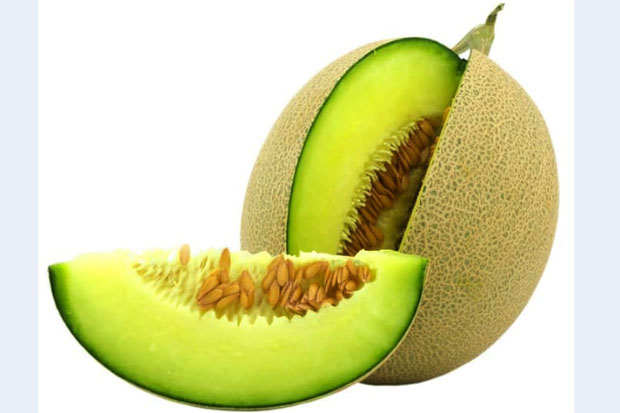Melon: (73, 231, 438, 397)
